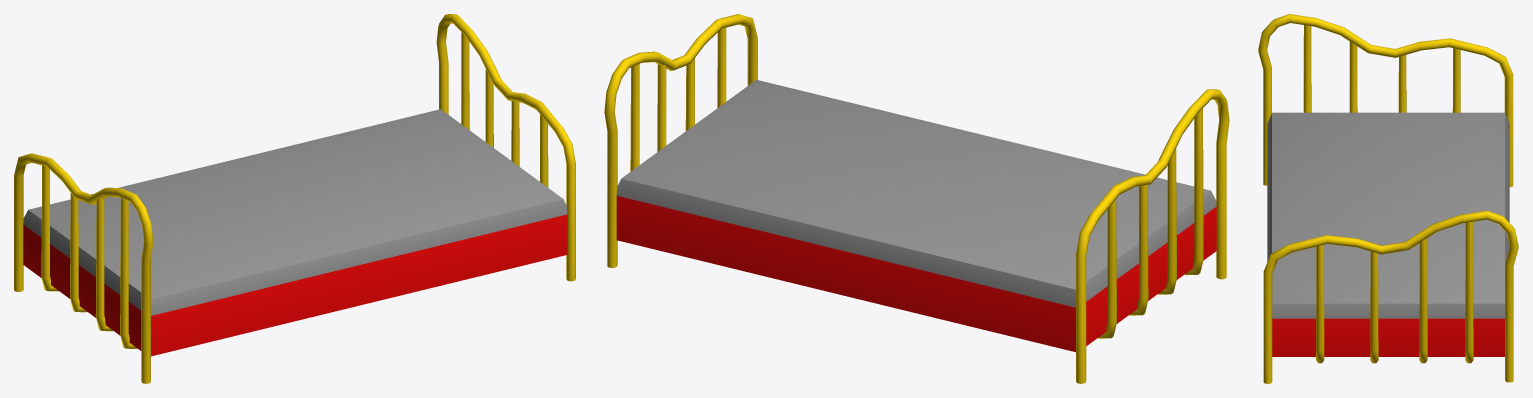
File: Bed.FBX
3 views of the same model, side by side, from view 1: azimuth 30°, elevation 25°; view 2: azimuth 150°, elevation 25°; view 3: azimuth 270°, elevation 25° (orthographic). The views are drawn at different scales.
Parts seen in each view (by area): view 1: Line004; view 2: Line004; view 3: Line004.
Boxes of the visible parts, <box> form: Line004: <box>14,14,575,383</box>; Line004: <box>604,14,1229,383</box>; Line004: <box>1258,14,1518,383</box>.
Size of the model in its own units: 126 by 49.98 by 69.19.
